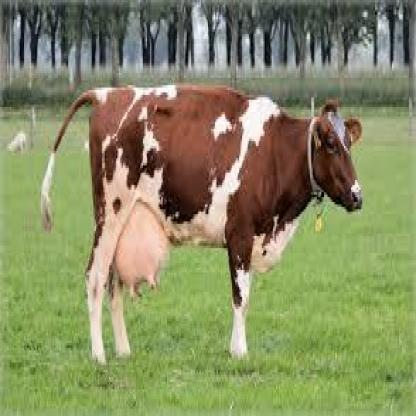cow: (41, 84, 364, 366)
